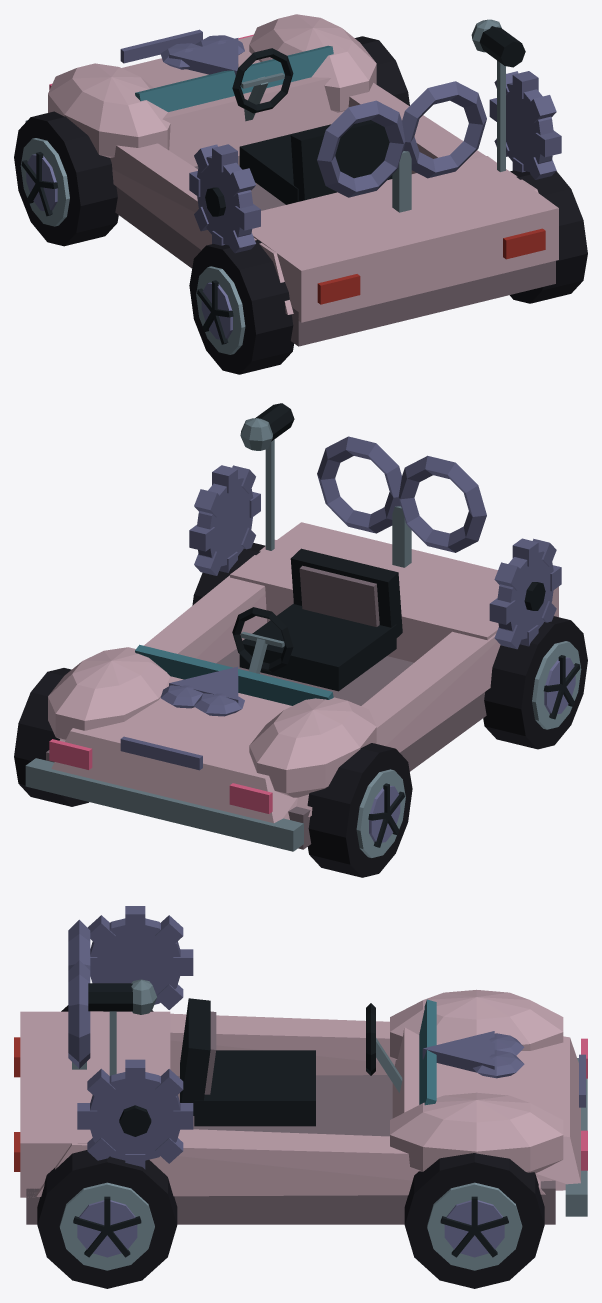
Rendered from kart.glb.
3 views of the same model, one above another, from view 1: azimuth 30°, elevation 25°; view 2: azimuth 150°, elevation 25°; view 3: azimuth 270°, elevation 25° (orthographic). The views are drawn at different scales.
Visible parts, largest first — view 1: identity-toy-car-toy-rounded-body-and-wind-up-key, wheel-rear-left, wheel-front-left, identity-toy-car-motif-gears, identity-toy-car-driver-cockpit, wheel-rear-right, identity-toy-car-motif-microphone, identity-toy-car-motif-heart, wheel-front-right; view 2: identity-toy-car-toy-rounded-body-and-wind-up-key, identity-toy-car-driver-cockpit, identity-toy-car-motif-gears, wheel-front-left, wheel-rear-left, wheel-front-right, identity-toy-car-motif-heart, identity-toy-car-motif-microphone, wheel-rear-right; view 3: identity-toy-car-toy-rounded-body-and-wind-up-key, identity-toy-car-motif-gears, wheel-front-right, wheel-rear-right, identity-toy-car-driver-cockpit, identity-toy-car-motif-heart, identity-toy-car-motif-microphone.
Boxes of the visible parts, x1,y1,x2,y2 form: identity-toy-car-toy-rounded-body-and-wind-up-key: (25,14,558,346); wheel-rear-left: (189,240,294,374); wheel-front-left: (14,111,118,246); identity-toy-car-motif-gears: (189,71,561,253); identity-toy-car-driver-cockpit: (232,48,392,204); wheel-rear-right: (510,170,587,303); identity-toy-car-motif-microphone: (471,19,525,171); identity-toy-car-motif-heart: (160,35,244,75); wheel-front-right: (355,36,409,105); identity-toy-car-toy-rounded-body-and-wind-up-key: (25,436,558,851); identity-toy-car-driver-cockpit: (232,548,402,691); identity-toy-car-motif-gears: (189,465,561,649); wheel-front-left: (307,743,412,877); wheel-rear-left: (483,616,587,749); wheel-front-right: (14,668,88,806); identity-toy-car-motif-heart: (160,666,244,716); identity-toy-car-motif-microphone: (240,403,294,550); wheel-rear-right: (192,543,265,605); identity-toy-car-toy-rounded-body-and-wind-up-key: (14,919,587,1224); identity-toy-car-motif-gears: (77,906,193,1169); wheel-front-right: (404,1153,544,1288); wheel-rear-right: (37,1150,177,1288); identity-toy-car-driver-cockpit: (180,998,402,1126); identity-toy-car-motif-heart: (422,1031,524,1078); identity-toy-car-motif-microphone: (88,979,156,1075).
Bounding box in the file's own units: 2.13 × 1.57 × 2.88.
